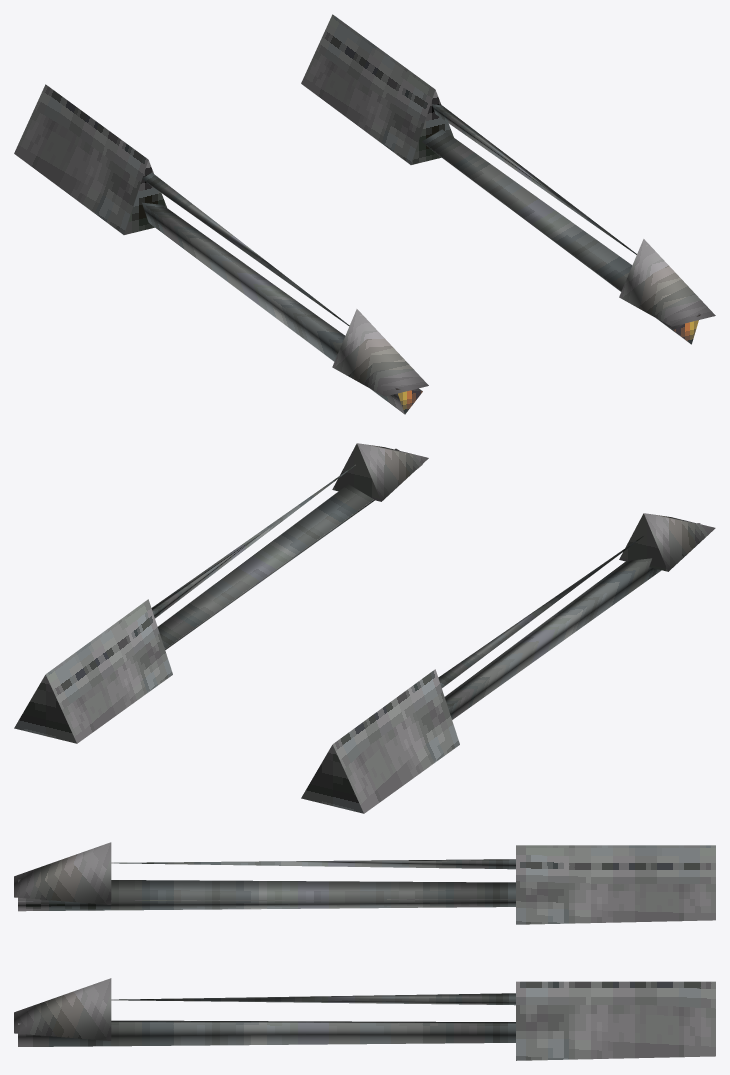
Rendered from bwing_weapon1_s06_l3.fbx.
3 renders of one model, top to bottom at view 1: azimuth 30°, elevation 25°; view 2: azimuth 150°, elevation 25°; view 3: azimuth 270°, elevation 25°, orthographic. The views are drawn at different scales.
Visible parts, largest first — view 1: mesh_node; view 2: mesh_node; view 3: mesh_node.
Part boxes in pixels (x1,y1,x2,y2): mesh_node: (14, 14, 715, 414); mesh_node: (14, 443, 715, 813); mesh_node: (14, 842, 715, 1060).
Size of the model in its own units: 0.8139 by 0.1624 by 1.45.
